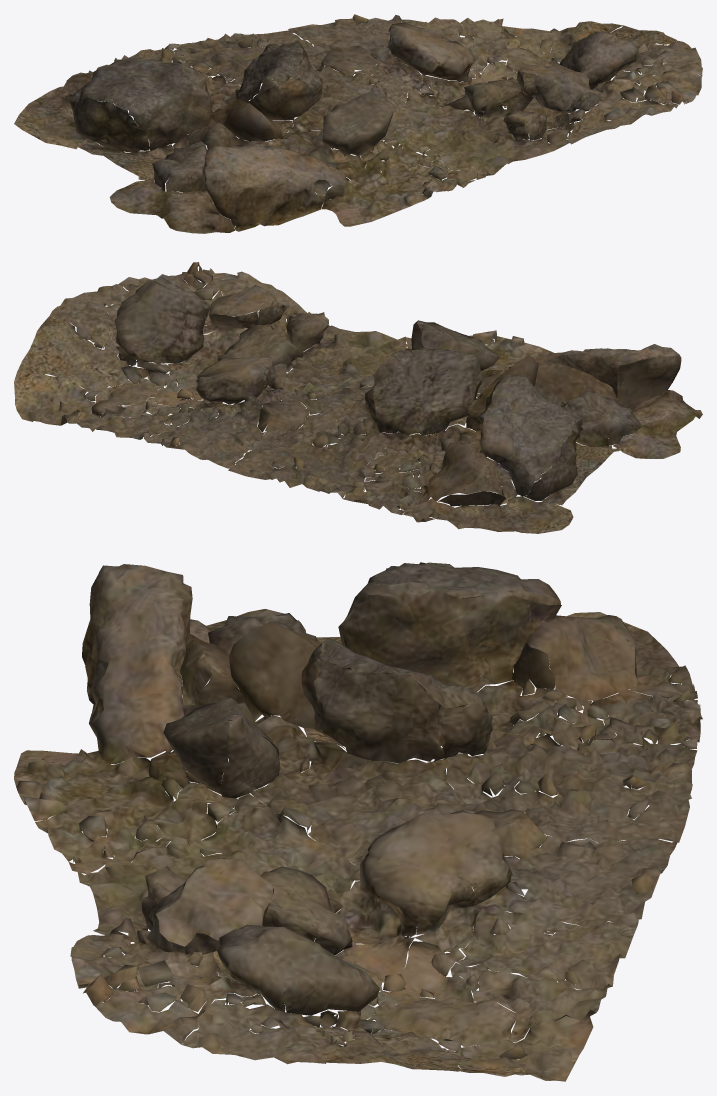
Rendered from coast_slab.glb.
3 views of the same model, one above another, from view 1: azimuth 30°, elevation 25°; view 2: azimuth 150°, elevation 25°; view 3: azimuth 270°, elevation 25° (orthographic). The views are drawn at different scales.
Parts seen in each view (by area): view 1: coast_land_rocks_03; view 2: coast_land_rocks_03; view 3: coast_land_rocks_03.
Part boxes in pixels (left/top/right/bottom): coast_land_rocks_03: left=14, top=14, right=702, bottom=233; coast_land_rocks_03: left=14, top=262, right=702, bottom=533; coast_land_rocks_03: left=14, top=562, right=702, bottom=1081.
Bounding box in the file's own units: 8.97 × 1.53 × 5.63.
1 material, 1 textured.
